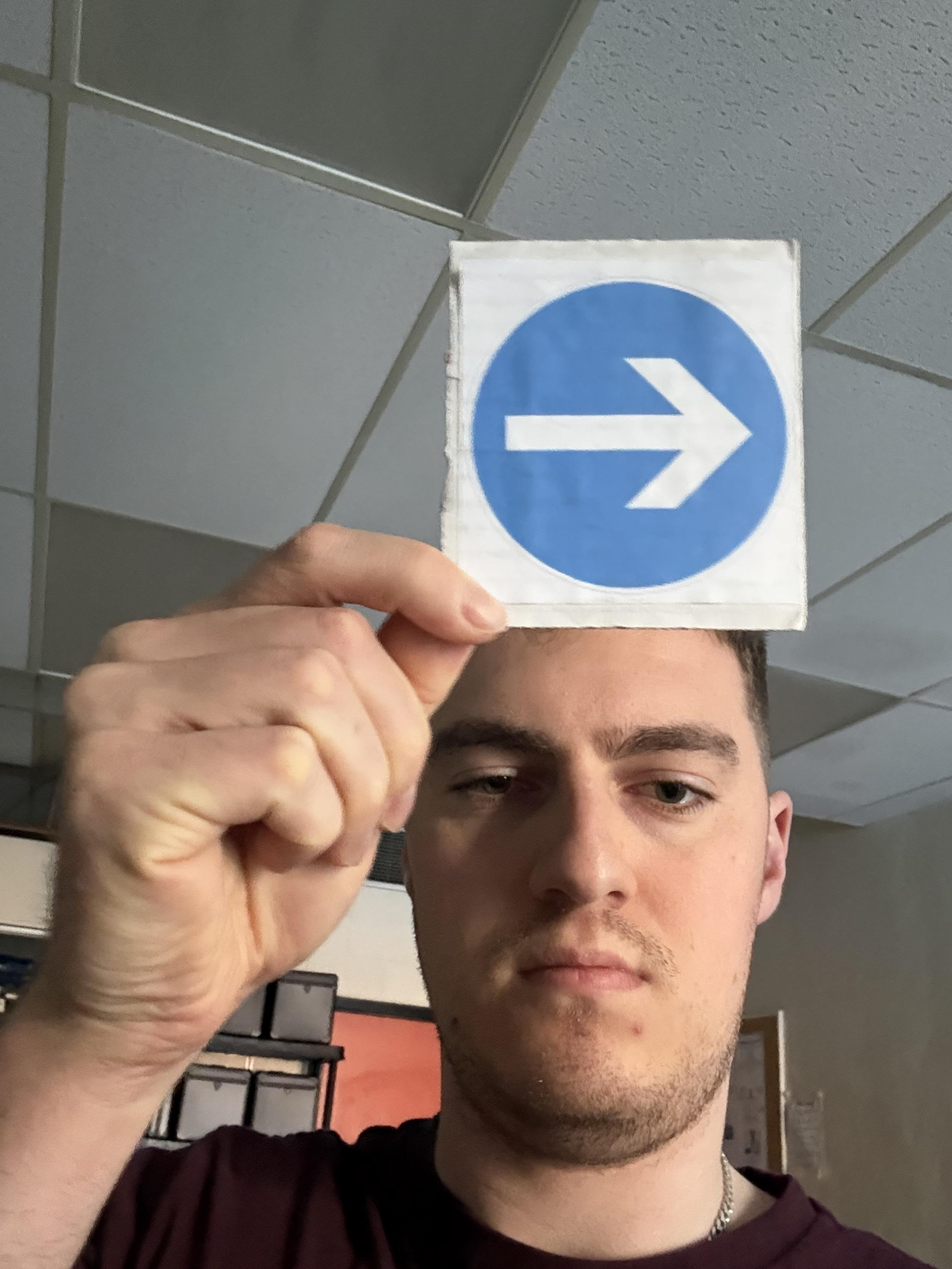Proceed Right: (331, 324, 608, 841)
